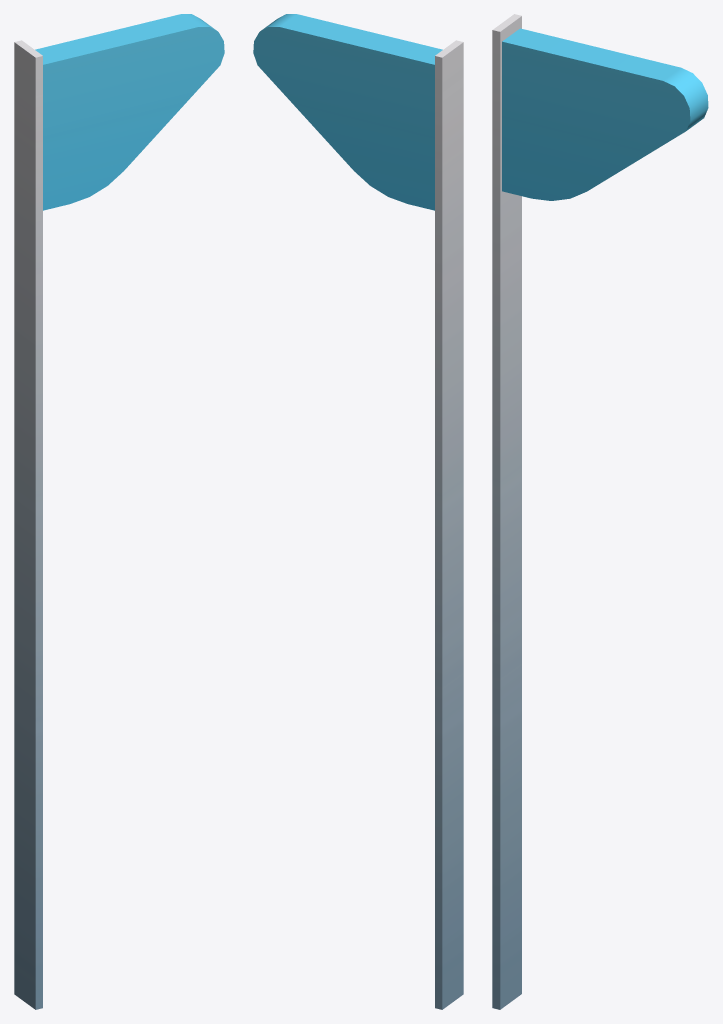
File: Obstacle_2.fbx
3 renders of one model, left to right at view 1: azimuth 30°, elevation 25°; view 2: azimuth 150°, elevation 25°; view 3: azimuth 330°, elevation 25°, orthographic. The views are drawn at different scales.
Visible parts, largest first — view 1: Obstacle_2; view 2: Obstacle_2; view 3: Obstacle_2.
Boxes of the visible parts, box(x1,y1,x2,y2) form: Obstacle_2: box(14, 14, 224, 1009); Obstacle_2: box(253, 14, 463, 1009); Obstacle_2: box(492, 14, 708, 1009).
Size of the model in its own units: 793 by 3778 by 153.
